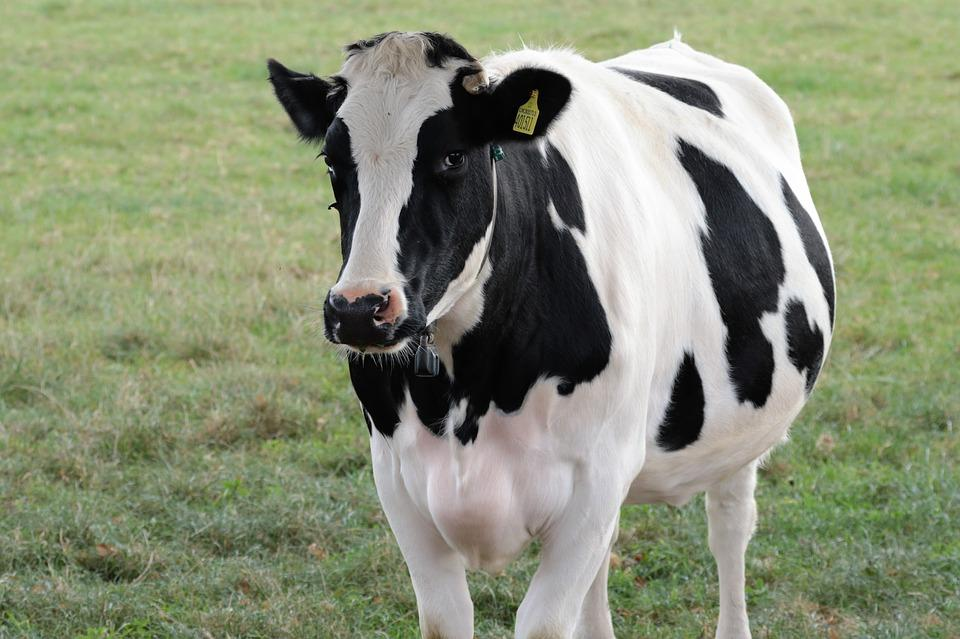muzzles: (307, 278, 440, 365)
